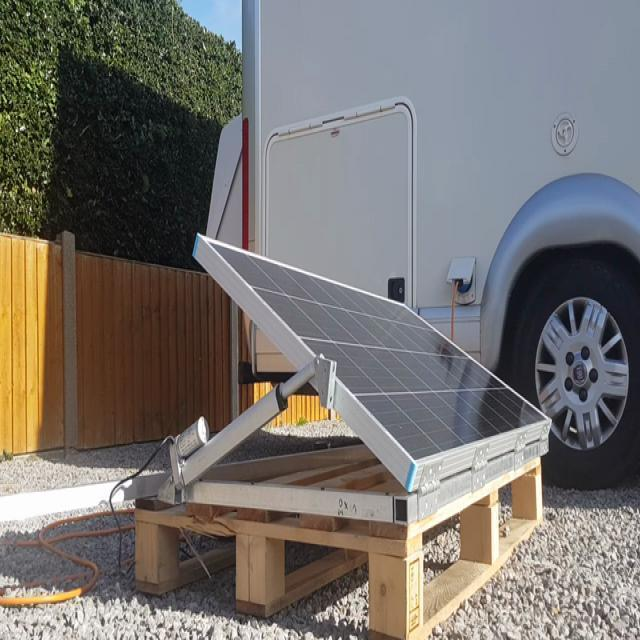Normal Solar Panel: (200, 238, 552, 467)
